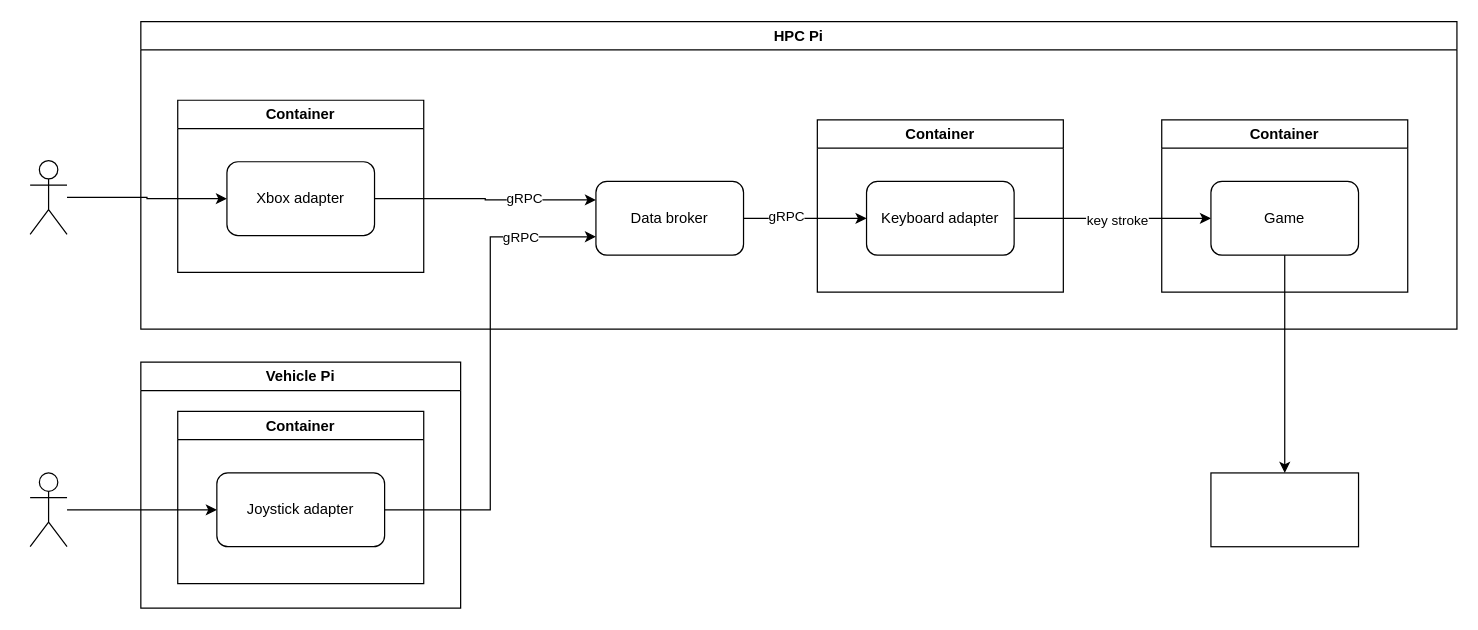
Image size: 1478x630. Some labels were removed from this diagram. Here are the shapes that lost their labels. From the top down, the centre of each, then its label:
[48,196]: Player 1
[48,509]: Player 2
[1284,509]: Display
